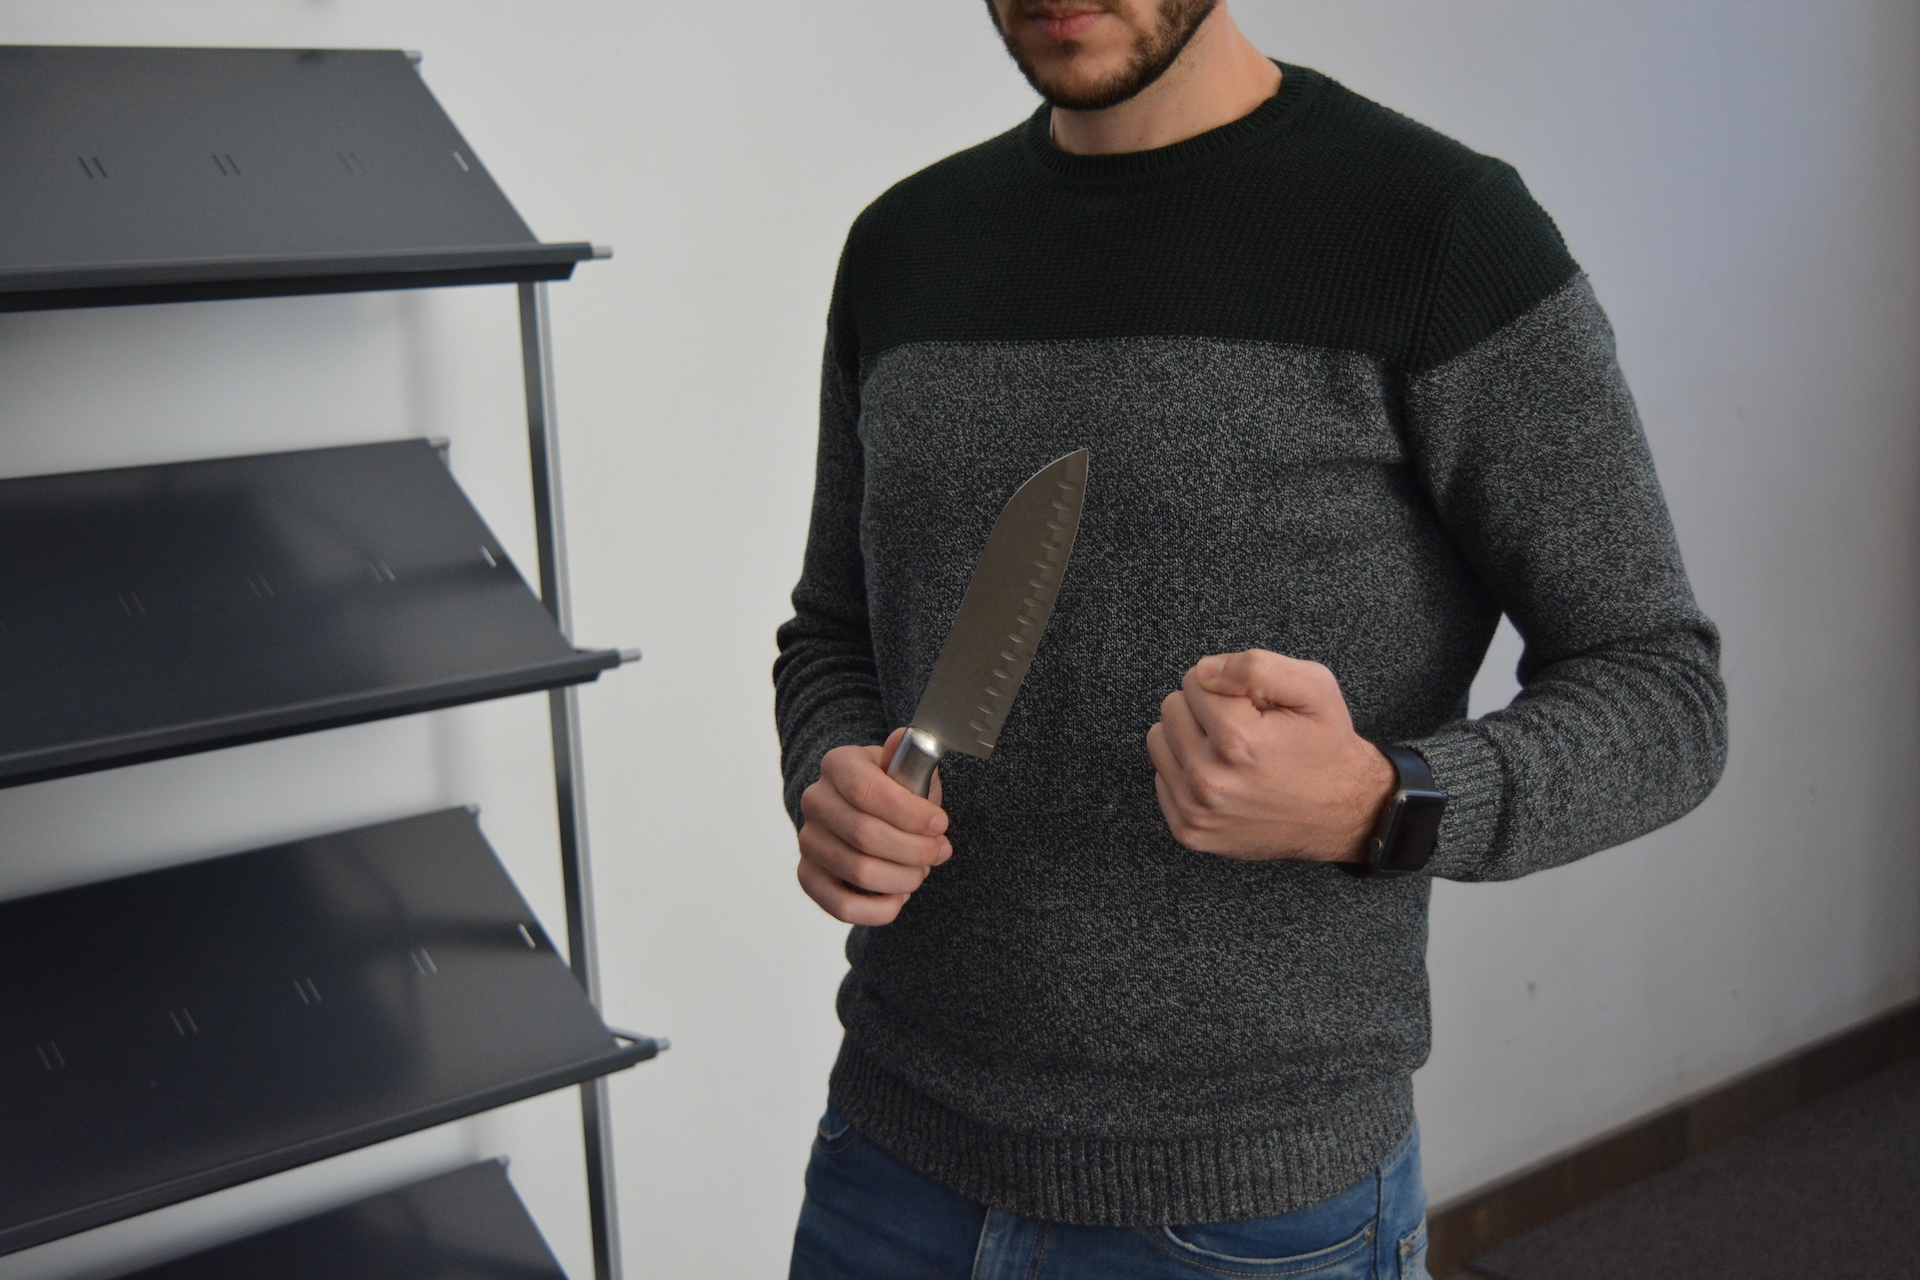knife: (859, 431, 1109, 836)
